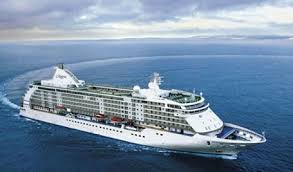tau_dansu: (27, 67, 266, 157)
